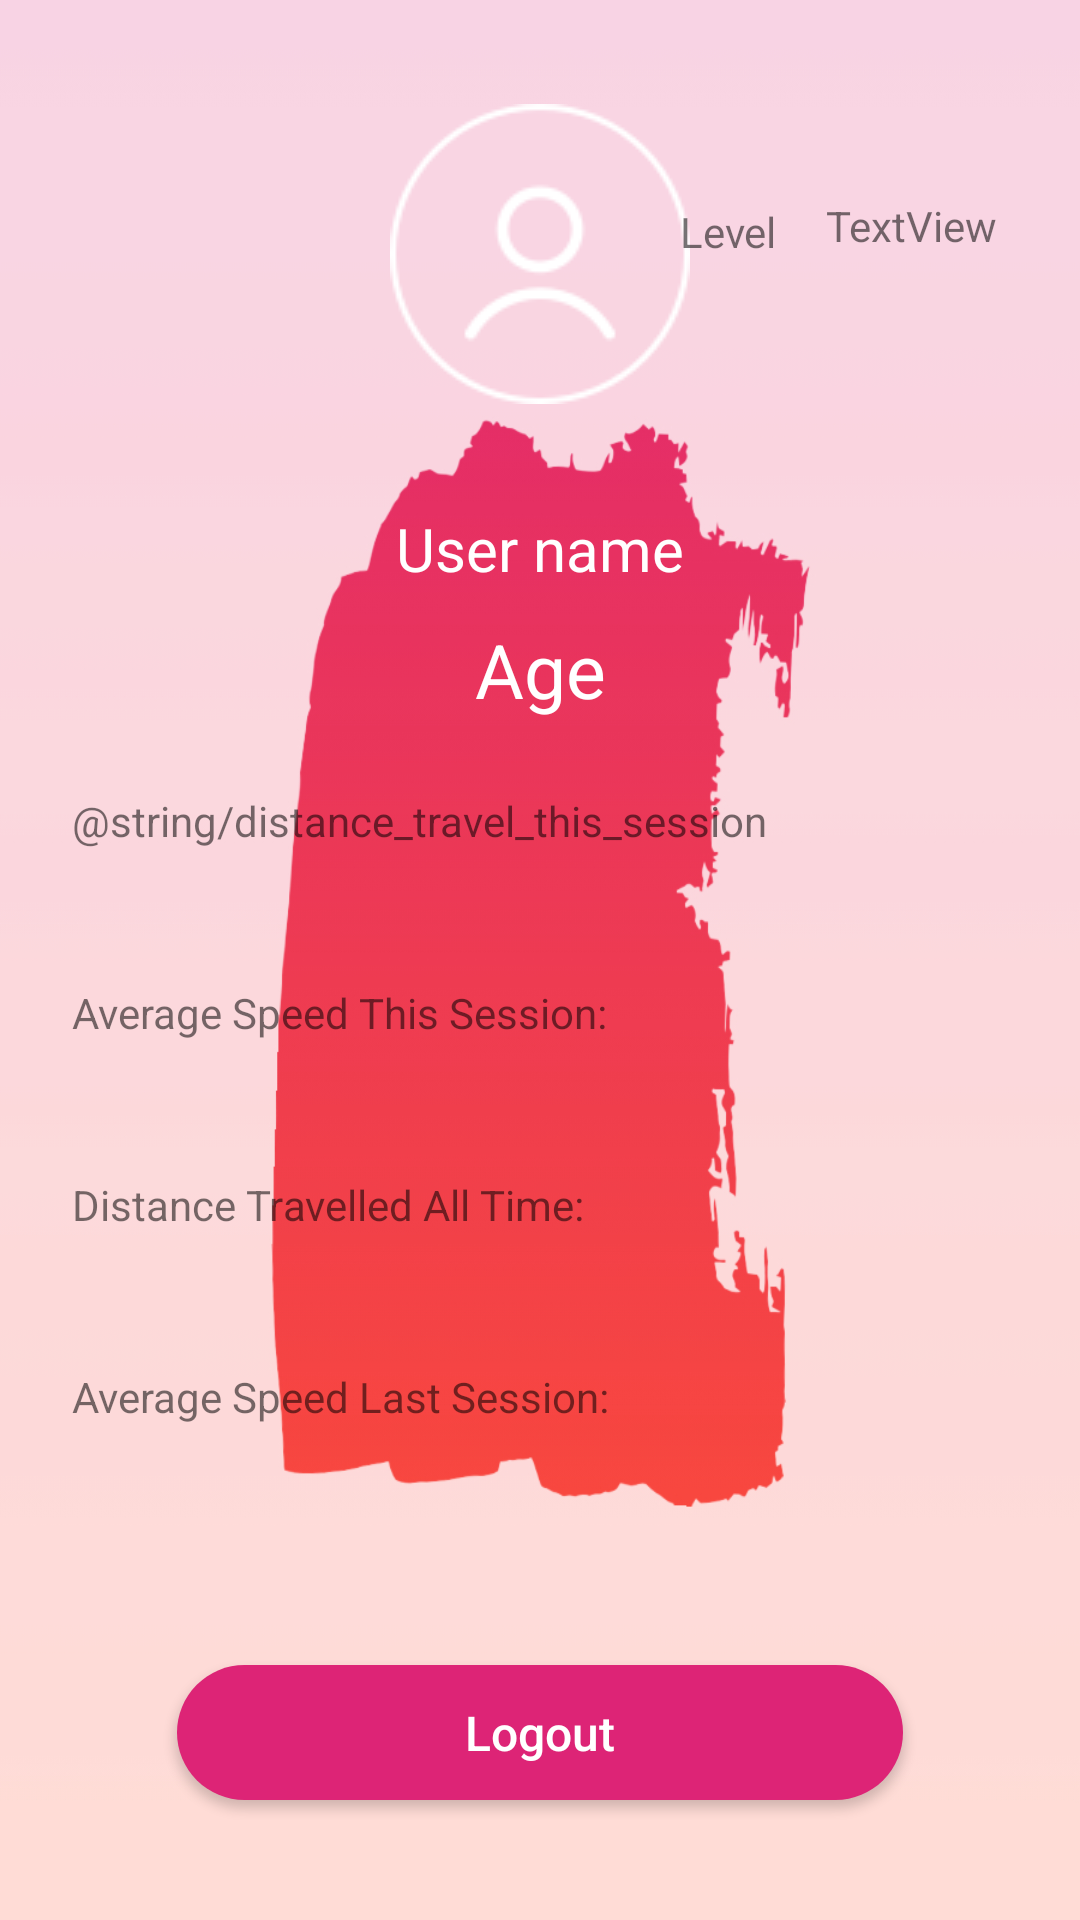

Screen size 1080×1920. Icon name, then its box in pixels as {"x1": x1, "y1": y1, "x2": x2, "y2": y2}:
profilepicture: {"x1": 390, "y1": 104, "x2": 690, "y2": 404}
